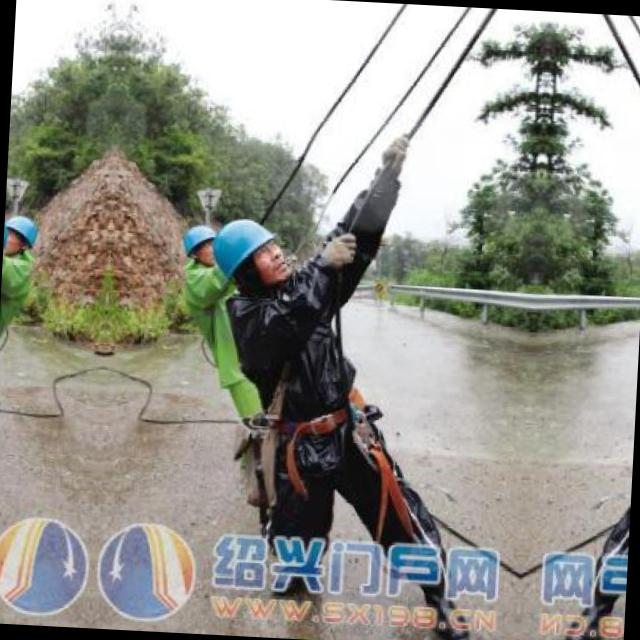helmet: (204, 211, 292, 295), (2, 211, 46, 266), (176, 221, 218, 274)
